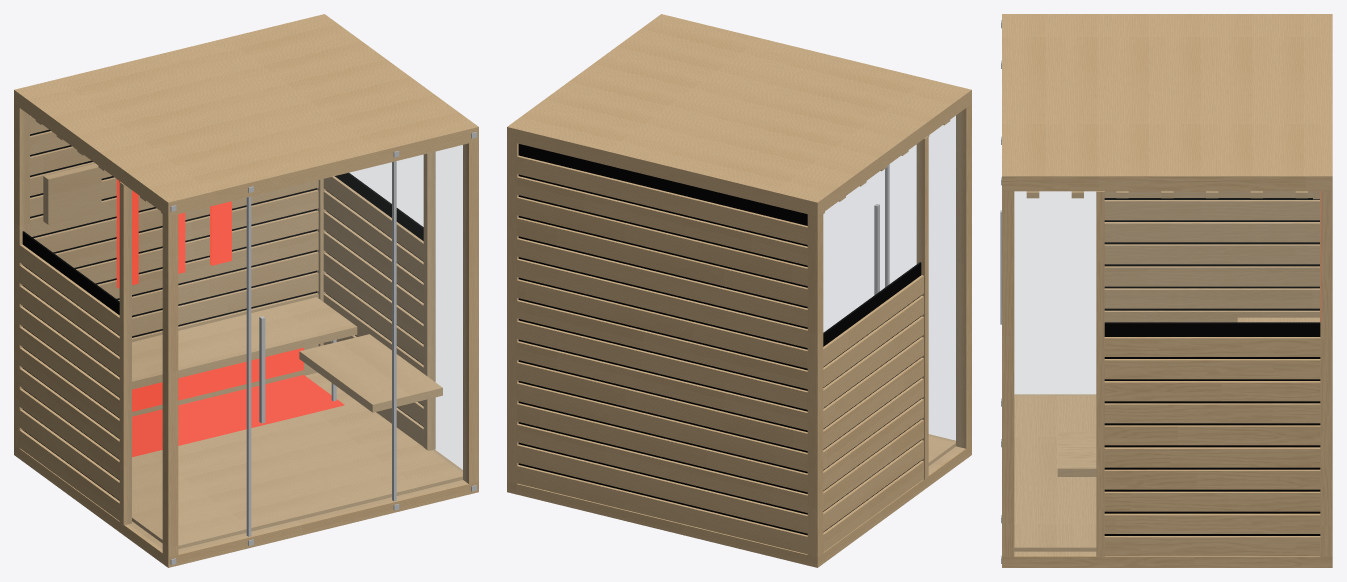
File: nua-4.glb
3 renders of one model, left to right at view 1: azimuth 30°, elevation 25°; view 2: azimuth 150°, elevation 25°; view 3: azimuth 270°, elevation 25°, orthographic. The views are drawn at different scales.
Visible parts, largest first — view 1: pale, glass, reveal, red, heater, steel; view 2: pale, glass, reveal, steel; view 3: pale, glass, reveal.
Boxes of the visible parts, x1,y1,x2,y2 form: pale: [14, 14, 478, 567]; glass: [348, 145, 462, 473]; reveal: [22, 129, 423, 500]; red: [132, 375, 344, 457]; heater: [116, 179, 303, 411]; steel: [170, 132, 476, 564]; pale: [507, 14, 971, 567]; glass: [823, 116, 955, 442]; reveal: [518, 144, 921, 535]; steel: [874, 164, 889, 294]; pale: [1002, 14, 1332, 567]; glass: [1014, 191, 1095, 395]; reveal: [1104, 198, 1320, 535].
Size of the model in its own units: 1.87 by 2.09 by 1.61.
6 materials, 1 textured.
